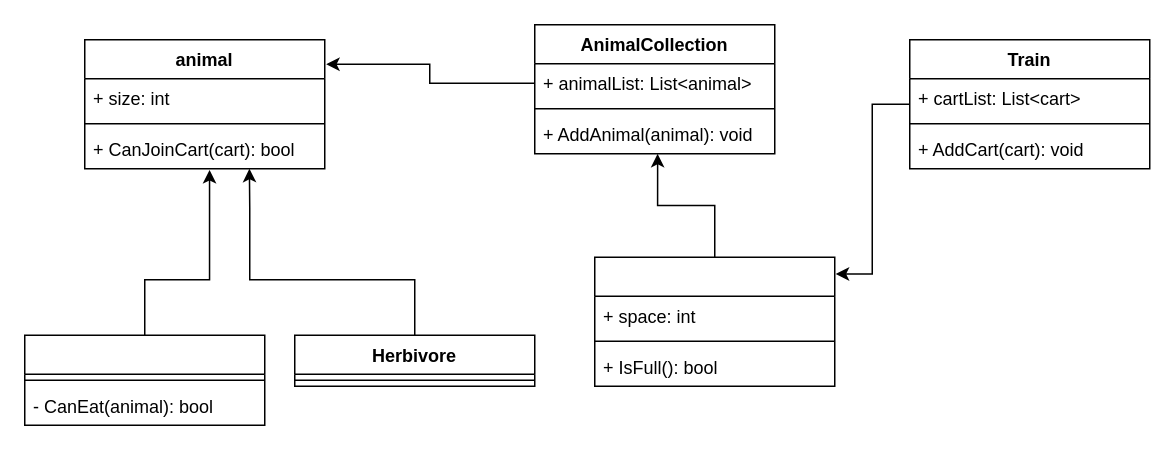
This 1175x450 diagram has some shape labels left out. Here are the shapes that lost their labels. From the top down, the box of each, then its label:
(593, 256, 835, 386): Cart
(23, 334, 265, 425): Carnivore
